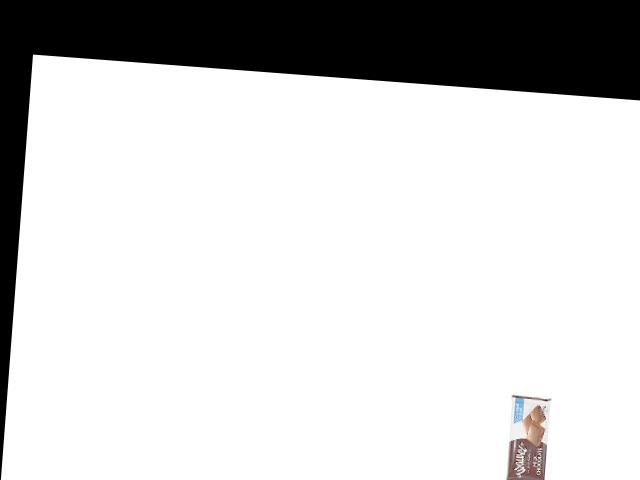chocolate: (503, 394, 553, 480)
